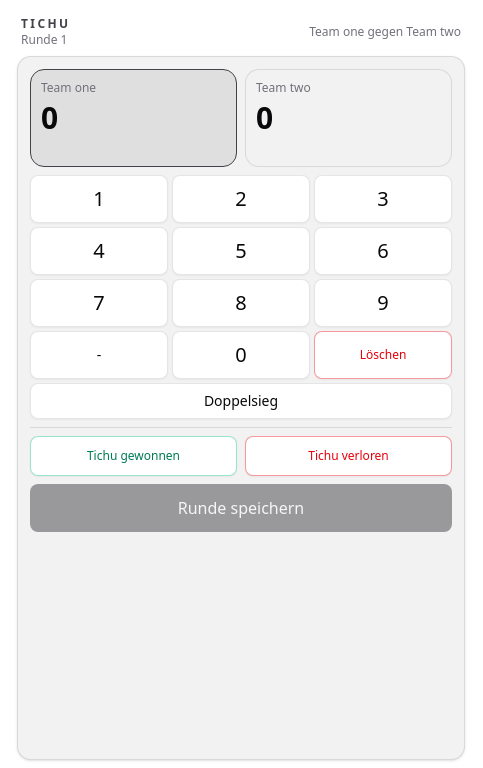
Test: SubmitScore validation and short viewport structure › submits a valid round with a client-generated retry key
The width and height of the screenshot is (483, 768).
Expected: the button "Runde speichern" is shown, [30,484,452,532]
Click the button "5". click: coordinates (241, 251)
box: [172,227,310,275]
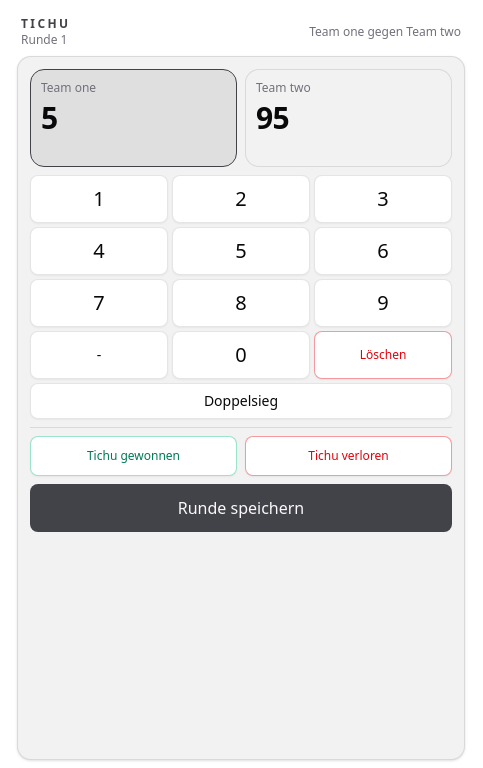
Click the button "Runde speichern". click: coordinates (241, 508)
box: [30,484,452,532]
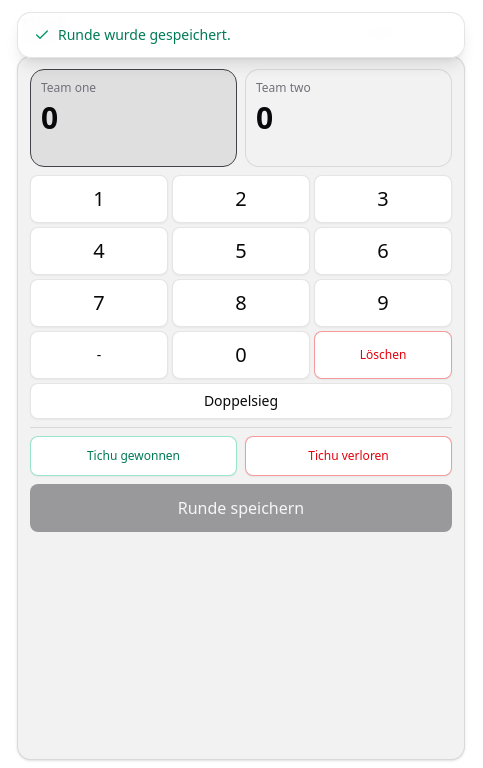
Now the text "Runde wurde gespeichert." is shown, box [58,25,231,45]
